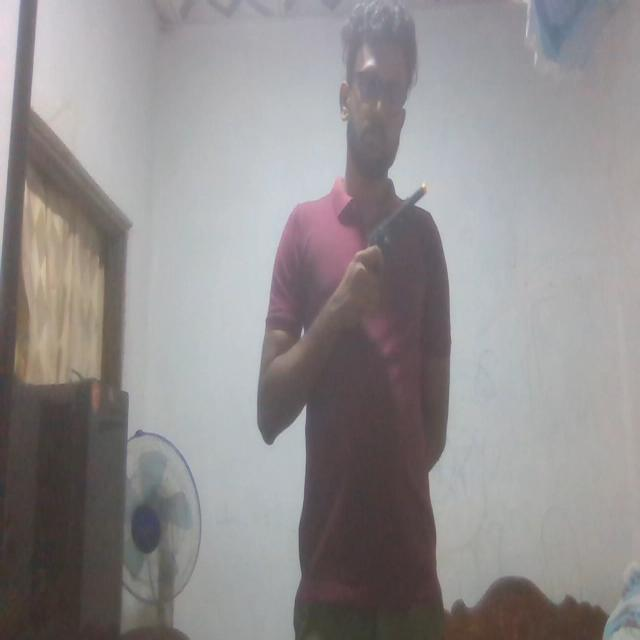Gun_Holder: (352, 177, 427, 301)
Person: (240, 0, 457, 640)
